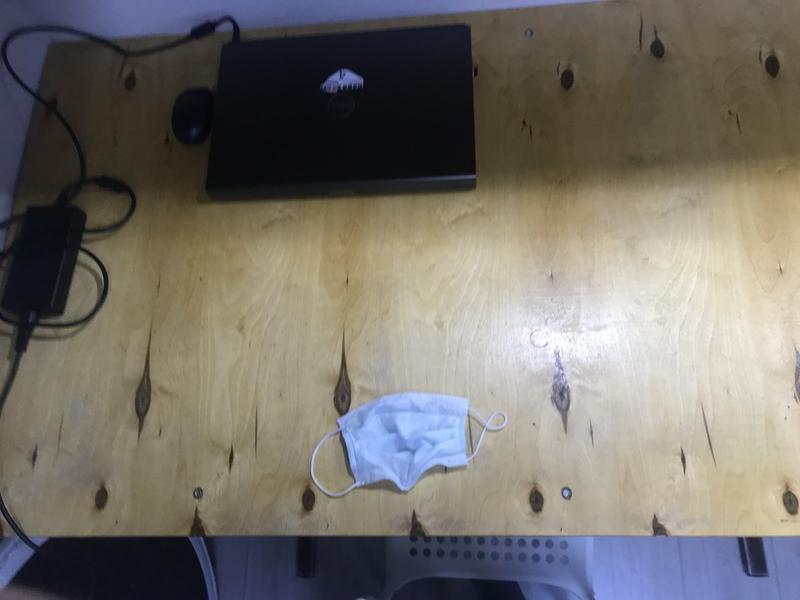medical_mask: (310, 394, 507, 499)
